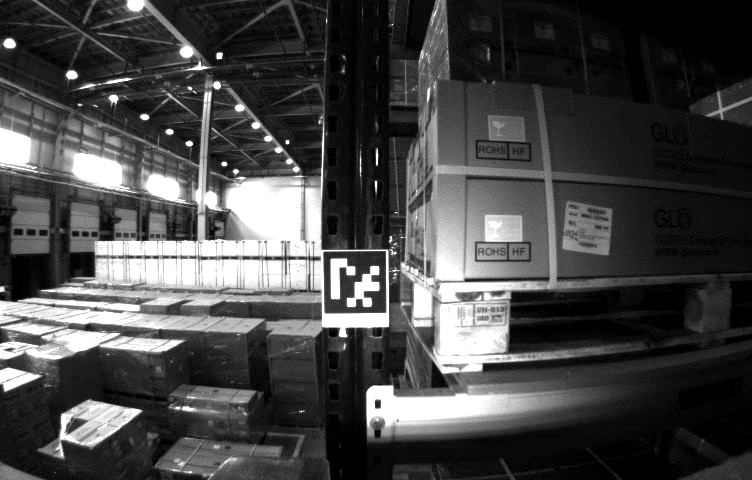True Barcode: (562, 201, 613, 256)
